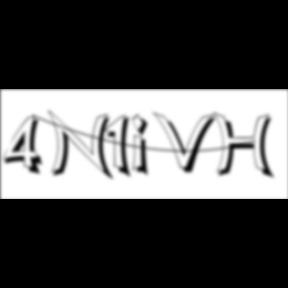1: (102, 114, 138, 182)
4: (2, 115, 50, 179)
H: (213, 112, 279, 182)
N: (48, 109, 118, 183)
V: (154, 110, 220, 176)
i: (132, 112, 156, 180)
